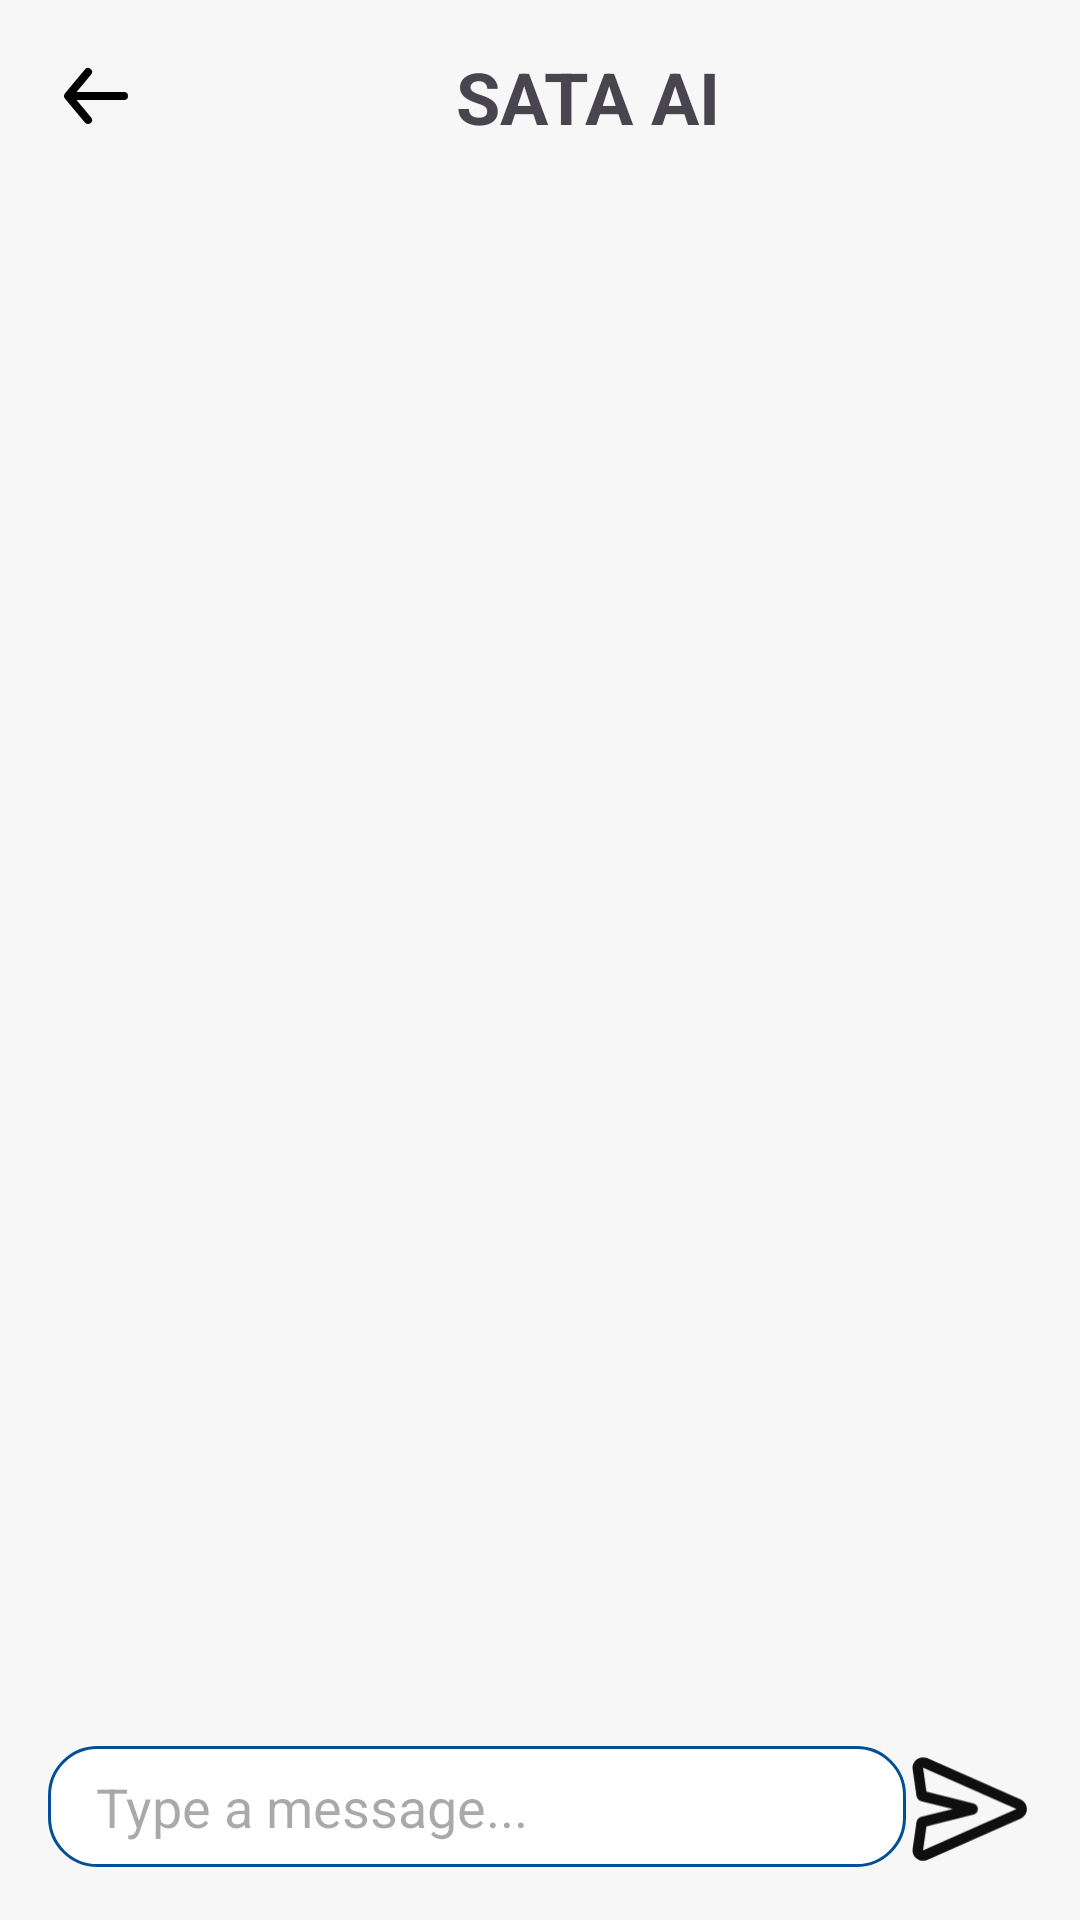

Where icons sit on this 1080×1920 app screen, as (x1, y1, x2, y2):
back arrow: (64, 67, 128, 124)
Send: (912, 1757, 1027, 1861)
